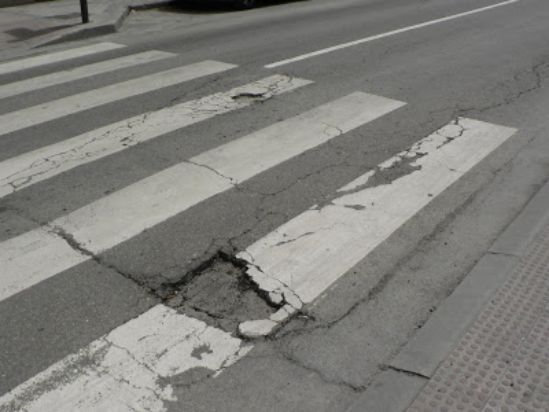pothole: (152, 249, 310, 337)
